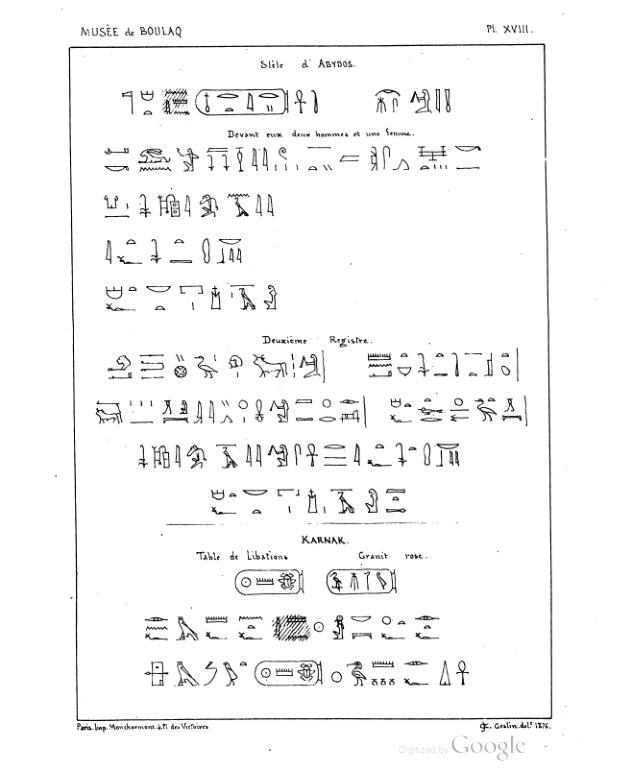circle: (319, 563, 402, 598), (194, 88, 290, 116), (232, 565, 309, 597), (252, 657, 326, 688)
